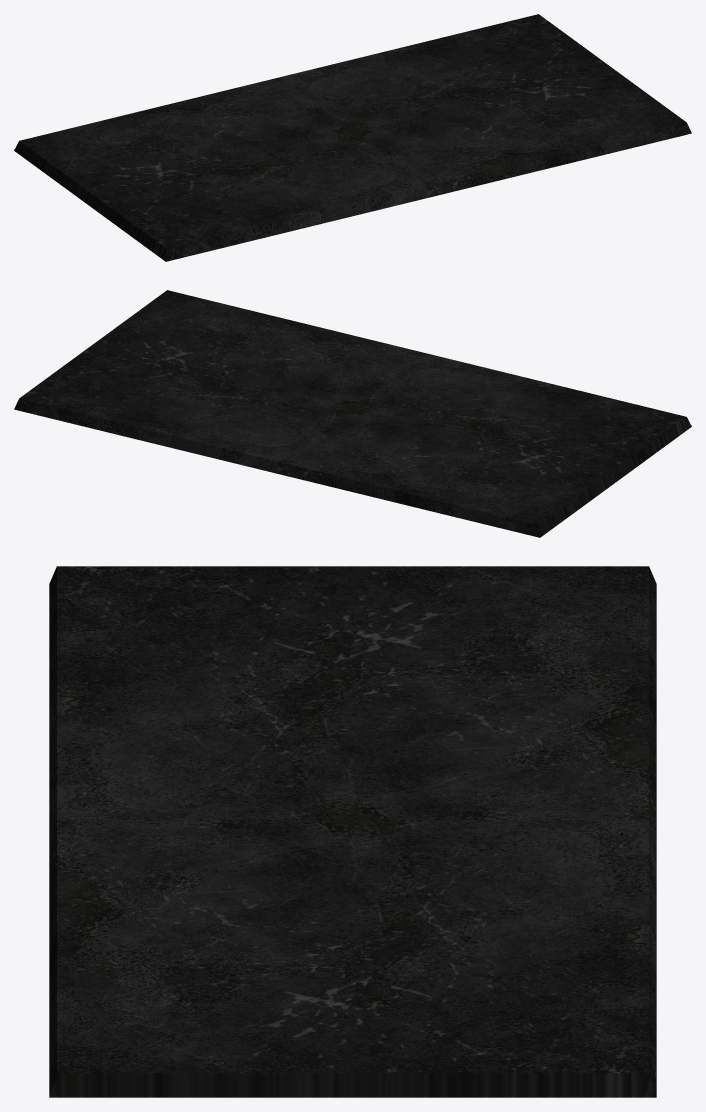
File: highrise_2roof.glb
The picture shows the model from 3 angles, top to bottom: view 1: azimuth 30°, elevation 25°; view 2: azimuth 150°, elevation 25°; view 3: azimuth 270°, elevation 25°; orthographic projection. The views are drawn at different scales.
Parts seen in each view (by area): view 1: Highrise.2roof; view 2: Highrise.2roof; view 3: Highrise.2roof.
Boxes of the visible parts, <box> form: Highrise.2roof: <box>14,14,691,261</box>; Highrise.2roof: <box>14,290,691,537</box>; Highrise.2roof: <box>49,566,656,1097</box>.
Size of the model in its own units: 0.8 by 0.0152 by 0.4.
1 material, 1 textured.
